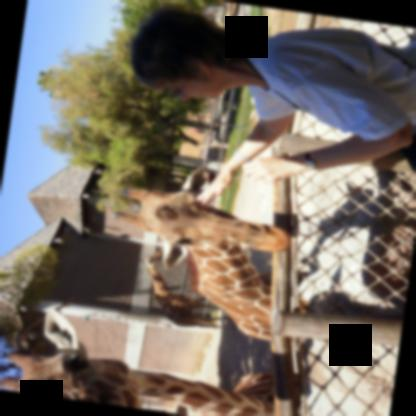handbag: (401, 136, 416, 172)
